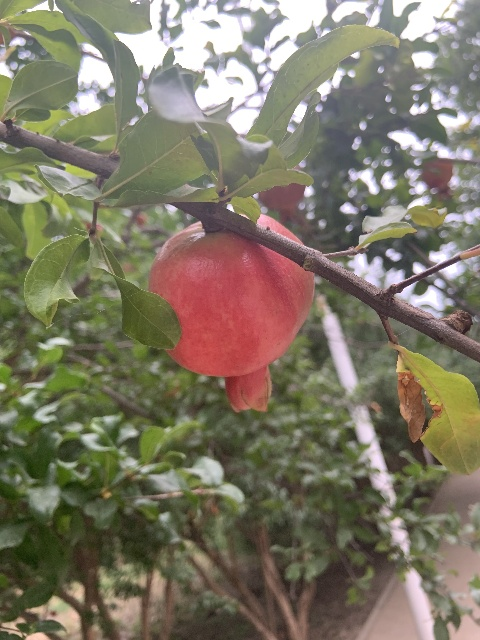ripe: (148, 214, 314, 412), (257, 166, 305, 224), (422, 162, 453, 200)
